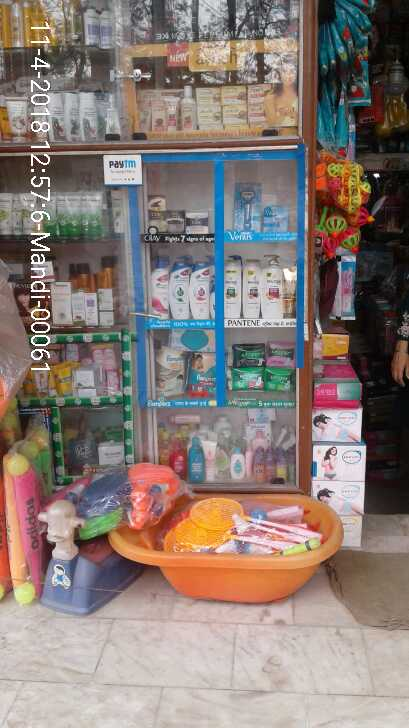venus: (233, 182, 261, 231), (265, 206, 286, 232)
